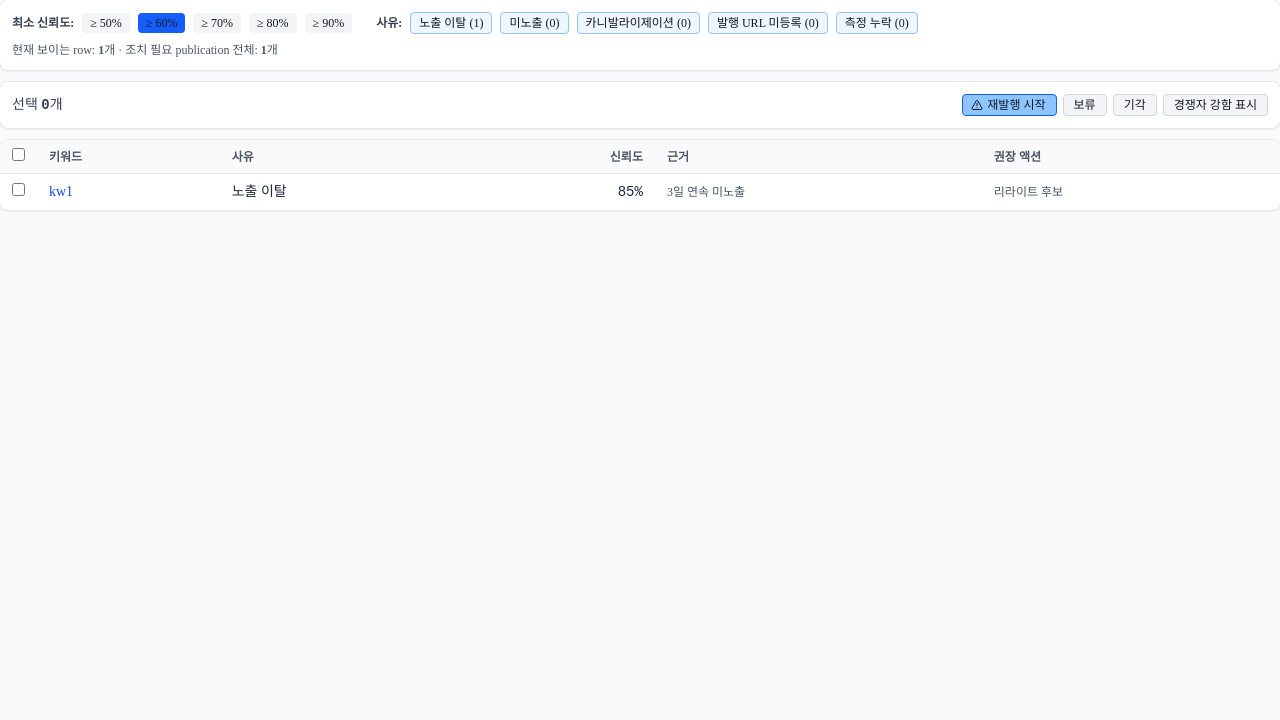
Test case: DiagnosesActionView › 재발행 버튼 클릭 시 강한 confirm dialog 표시 (undo 경고 포함)
This screenshot has width=1280, height=720.
Click the checkbox named "kw1 선택" at (18, 190), box [12,183,25,196]
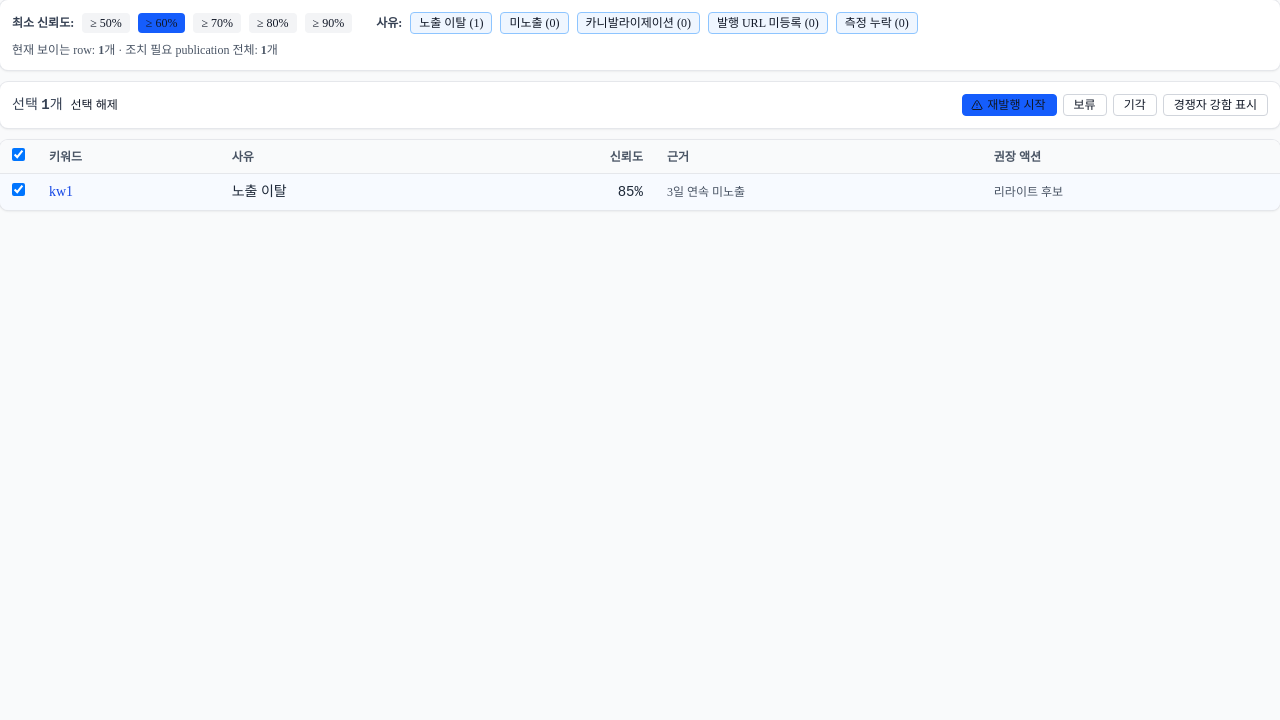
Result: the button "재발행 시작" is enabled
Note: 체크박스 클릭 후 ActionBar 의 disabled 가 풀릴 때까지 대기
Click the button "재발행 시작" at (1009, 105), box [962,94,1056,116]
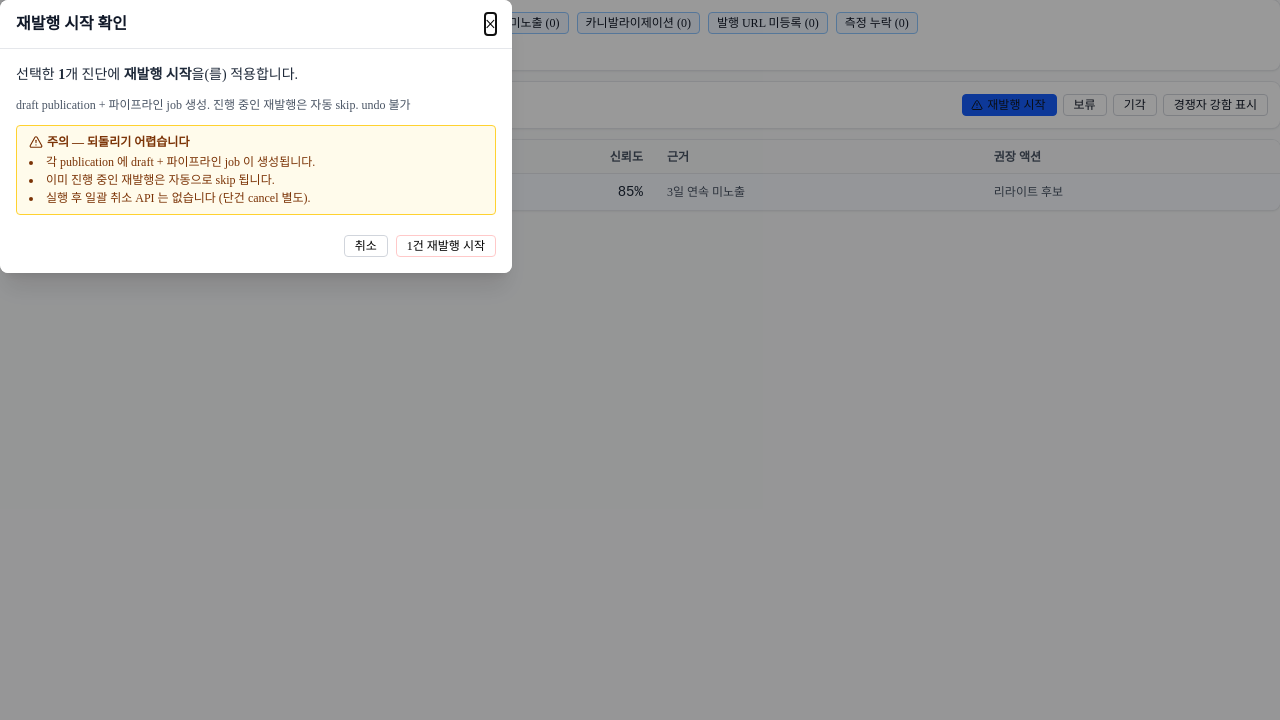
Result: the text "주의 — 되돌리기 어렵습니다" is shown at [47,134,190,150]
Result: the list item "각 publication 에 draft + 파이프라인 job 이 생성됩니다." is shown at [46,155,315,169]
